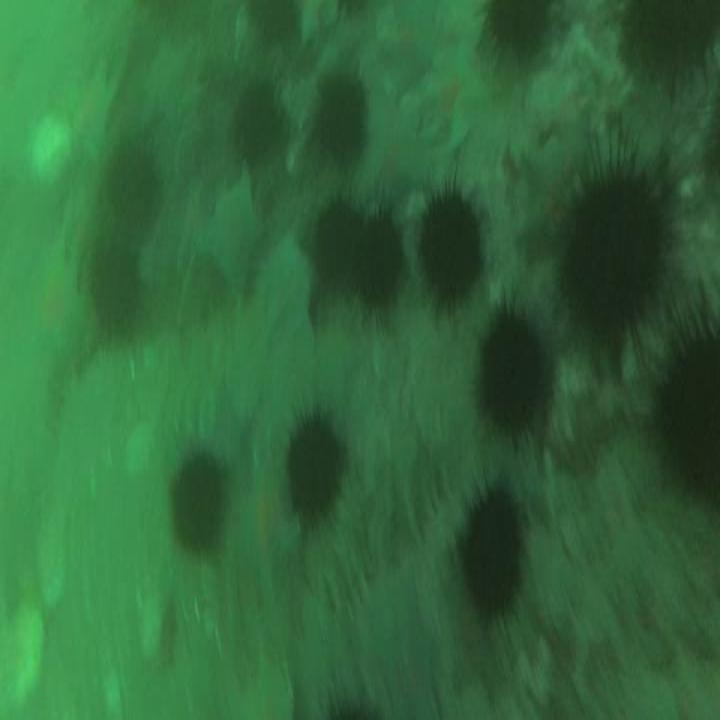echinus: (565, 172, 663, 332), (663, 332, 720, 507), (480, 307, 543, 434), (463, 485, 523, 612), (420, 195, 481, 306), (628, 0, 719, 68), (287, 418, 340, 522), (169, 453, 223, 551), (355, 214, 405, 310), (88, 243, 137, 329), (317, 80, 367, 162), (105, 150, 157, 228), (233, 86, 283, 166), (314, 199, 360, 277), (488, 0, 546, 53)
holothurian: (310, 428, 454, 606)
scallop: (31, 110, 81, 185)
starfish: (420, 47, 487, 141), (381, 7, 431, 96)
